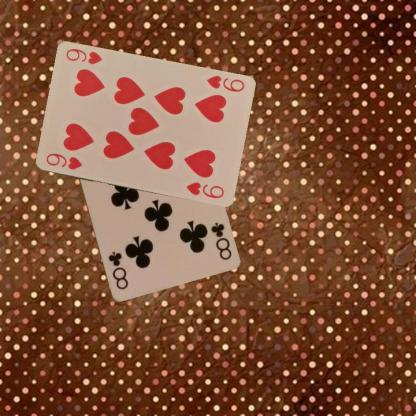8c: (207, 220, 233, 261)
9h: (204, 73, 246, 94), (43, 150, 83, 171)
